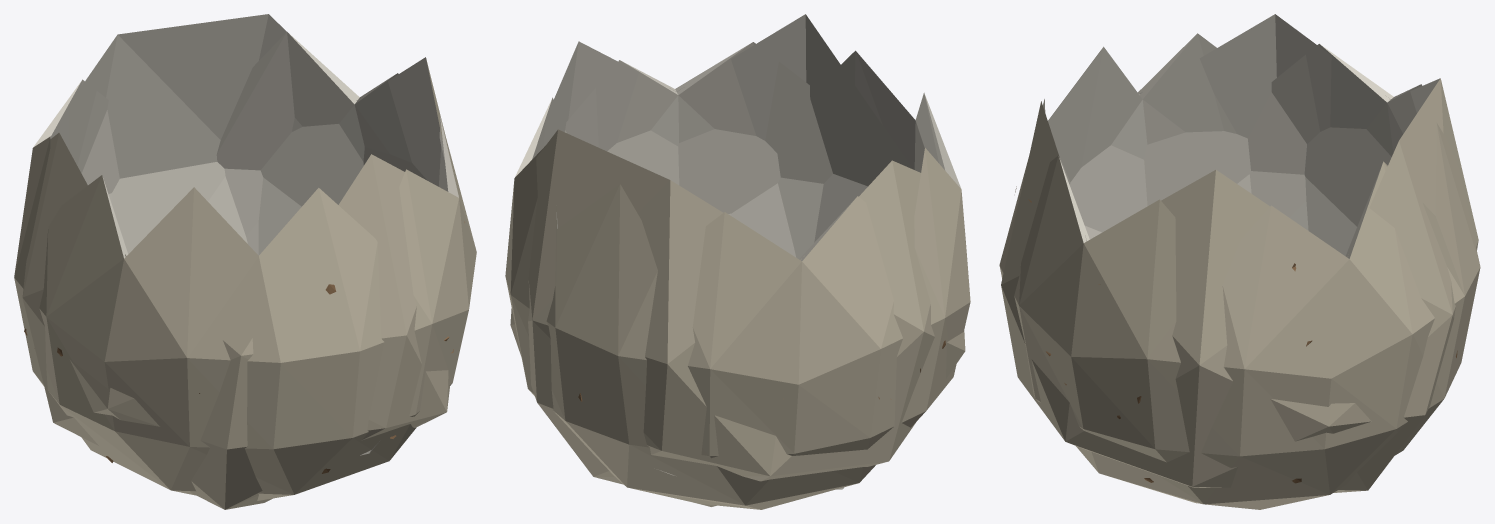
File: pf_eggshell.glb
3 renders of one model, left to right at view 1: azimuth 30°, elevation 25°; view 2: azimuth 150°, elevation 25°; view 3: azimuth 270°, elevation 25°, orthographic. The views are drawn at different scales.
Visible parts, largest first — view 1: body, body__far; view 2: body, body__far; view 3: body, body__far.
Boxes of the visible parts, bbox=[...] form: body: bbox=[14, 32, 476, 500]; body__far: bbox=[22, 14, 449, 509]; body: bbox=[505, 42, 970, 509]; body__far: bbox=[510, 14, 965, 506]; body: bbox=[999, 33, 1480, 509]; body__far: bbox=[1001, 14, 1478, 503].
Size of the model in its own units: 0.4463 by 0.4159 by 0.4433.
